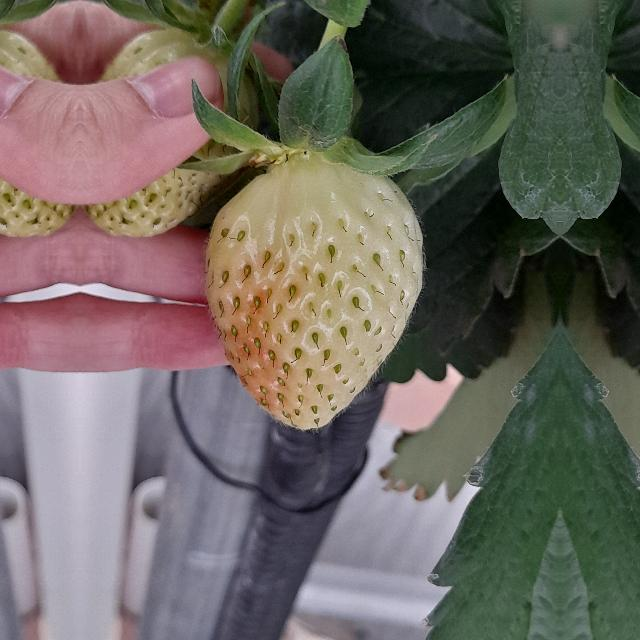Health_50: (204, 152, 422, 430)
